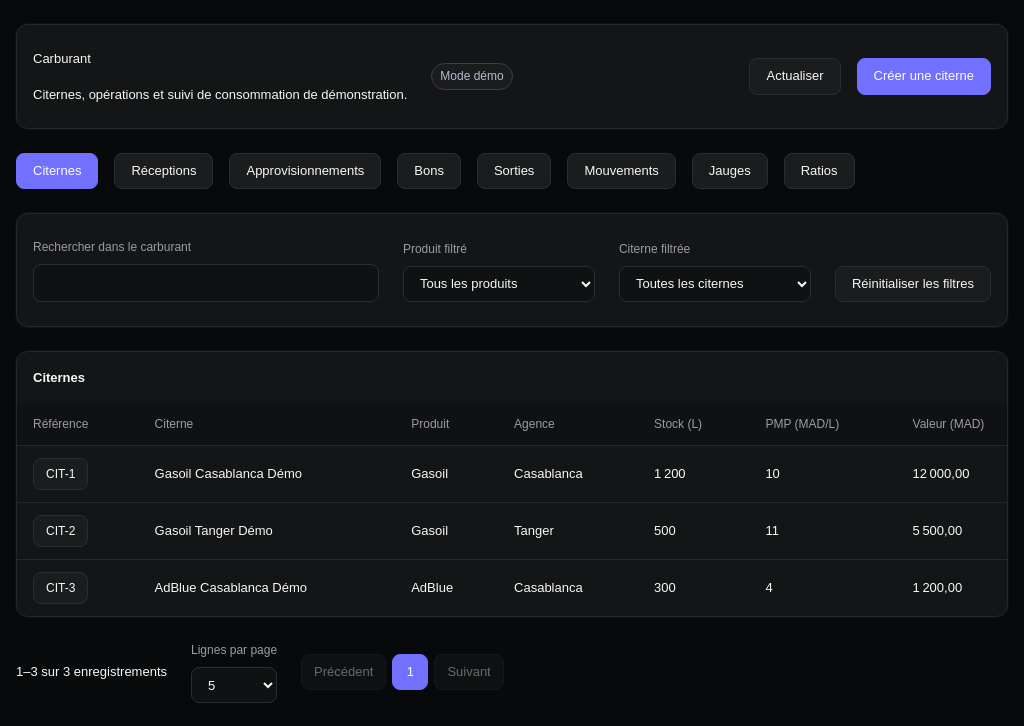
Test case: Carburant › renders ratio results and date-filter errors
The image size is (1024, 726).
Check: the table "Citernes" is shown, box x1=17 y1=352 x2=1007 y2=616
Step 1. Click the button "Ratios" → (819, 171), box x1=784 y1=153 x2=855 y2=189
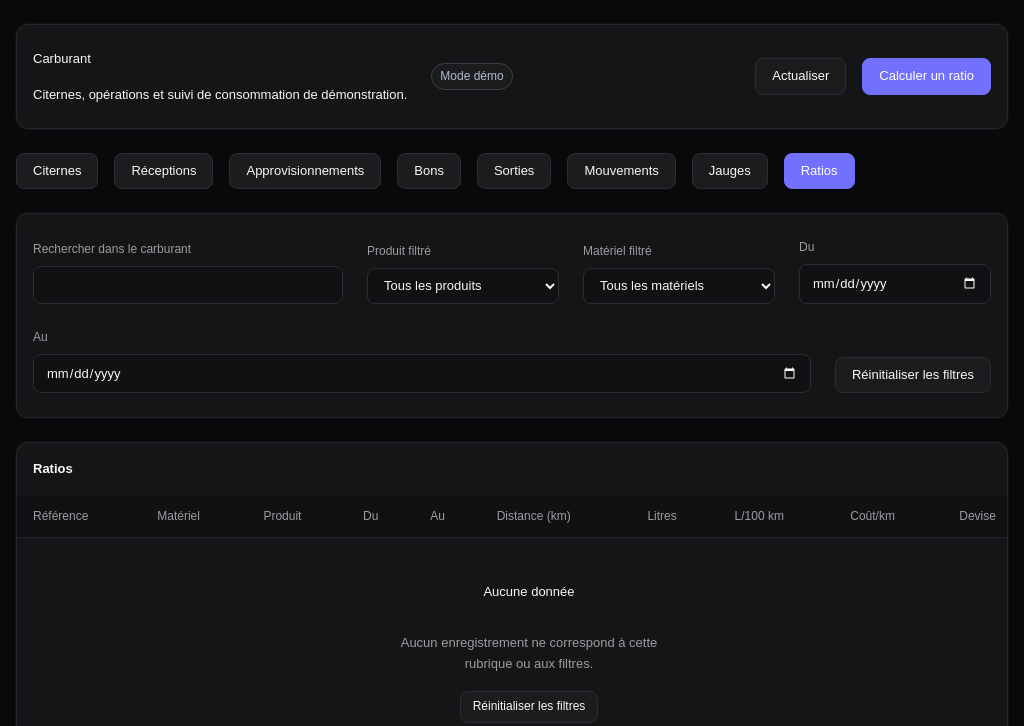
Step 2. Click the button "Calculer un ratio" → (927, 76), box x1=862 y1=58 x2=991 y2=95
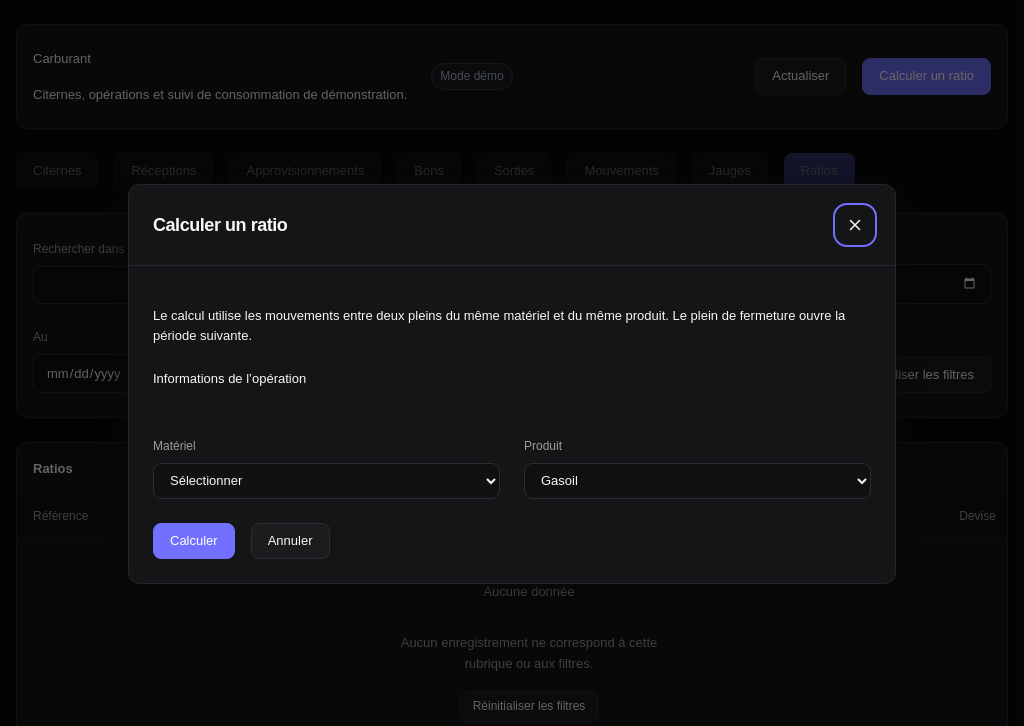
Step 3. Select "DEMO-001" in the dropdown labelled "Matériel" → (326, 481), box x1=153 y1=463 x2=500 y2=499
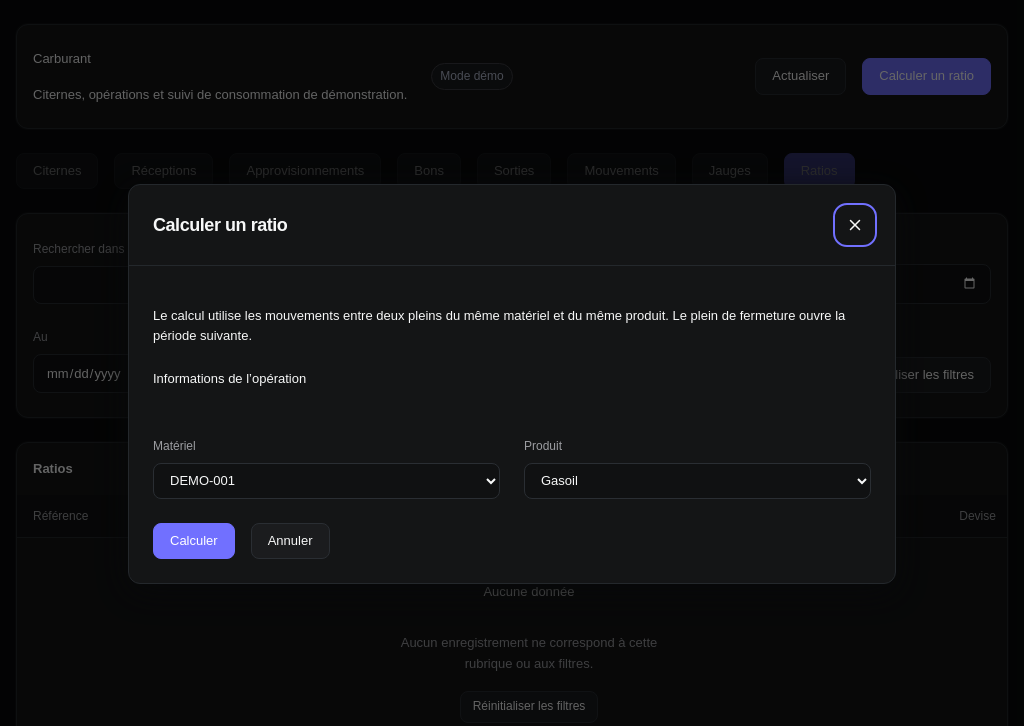
Step 4. Click the button "Calculer" → (194, 541), box x1=153 y1=523 x2=235 y2=559
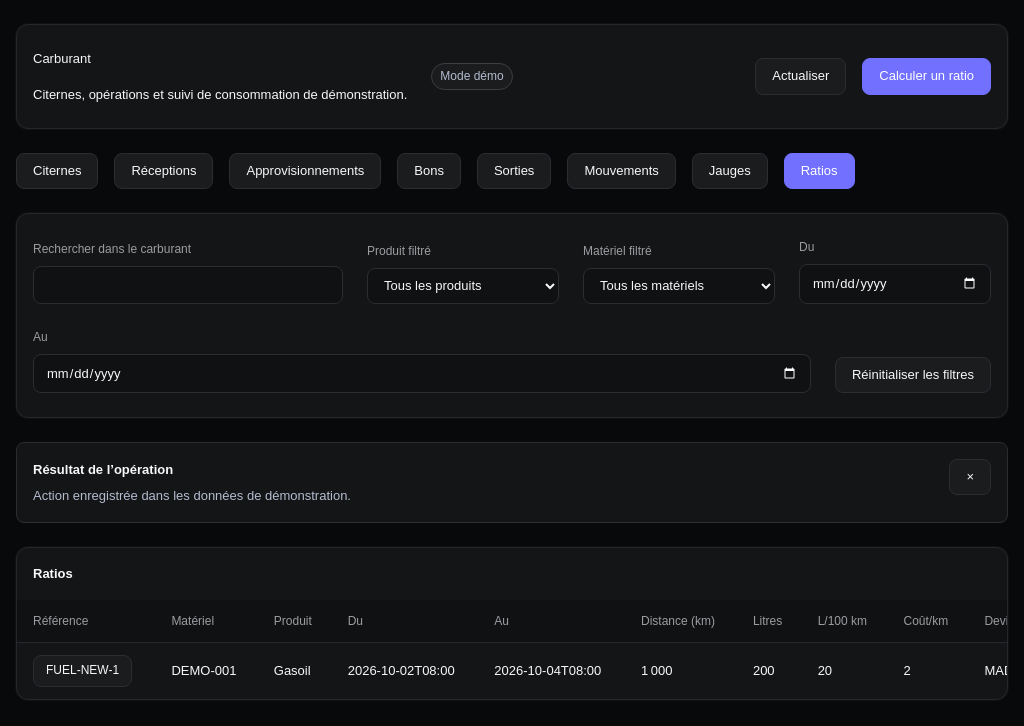
Check: the dialog is gone
Check: the table "Ratios" shows "20", box x1=818 y1=663 x2=832 y2=678
Step 5. Type "2026-10-17" into the date field labelled "Du" → (895, 284), box x1=799 y1=264 x2=991 y2=304
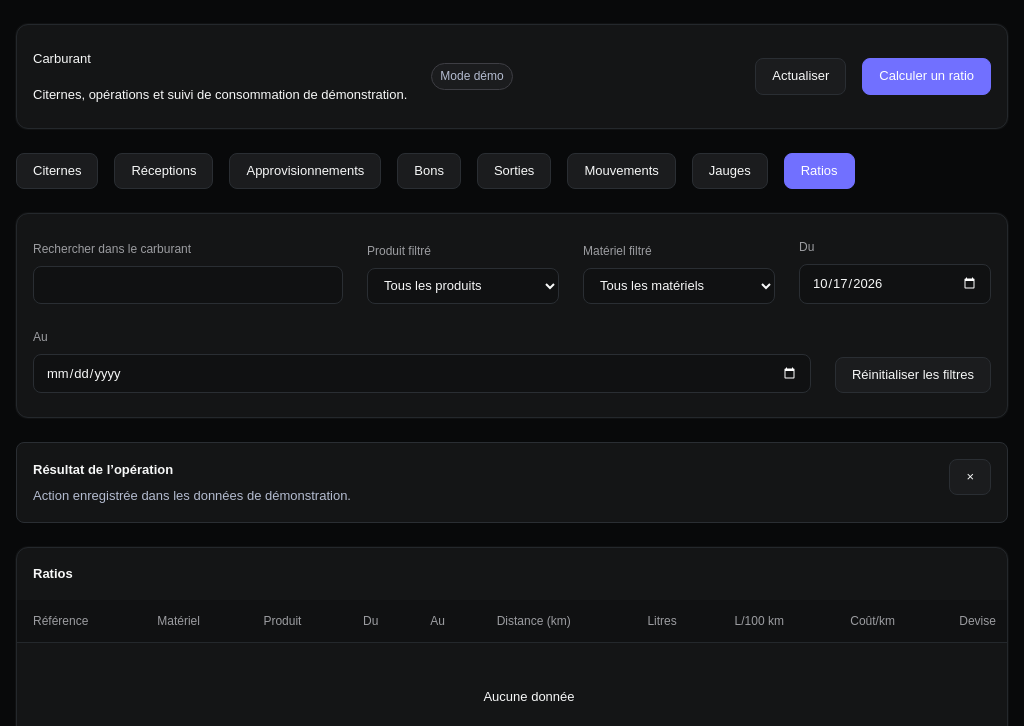
Step 6. Type "2026-01-01" into the date field labelled "Au" → (422, 373), box x1=33 y1=354 x2=811 y2=393
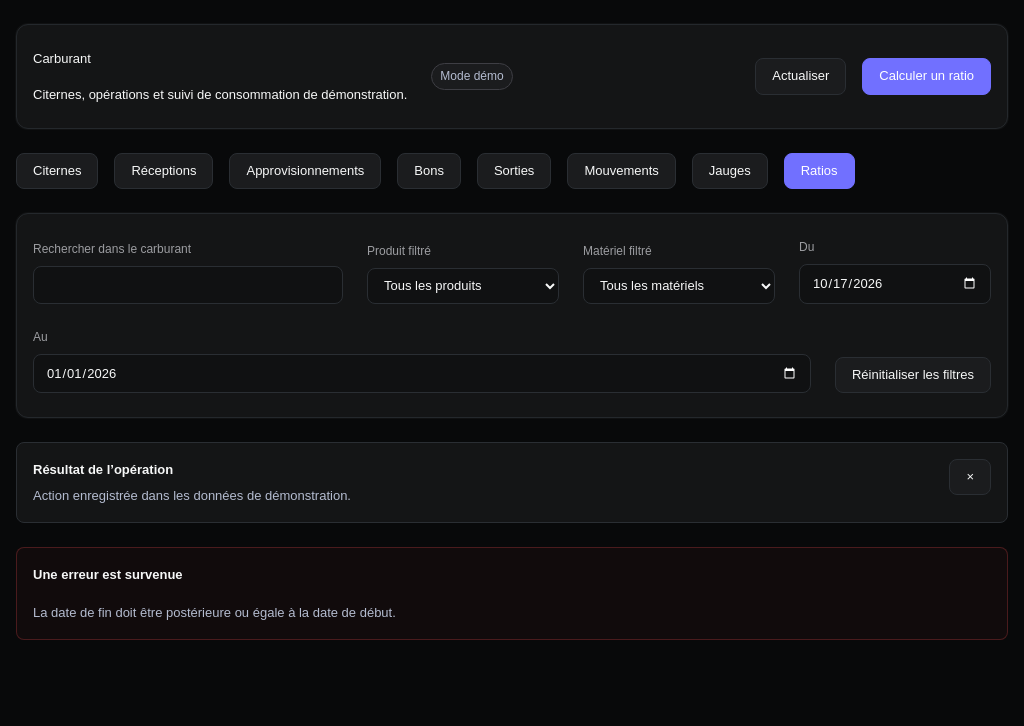
Check: the text "La date de fin doit être postérieure ou égale à la date de début." is shown, box x1=33 y1=602 x2=396 y2=623
